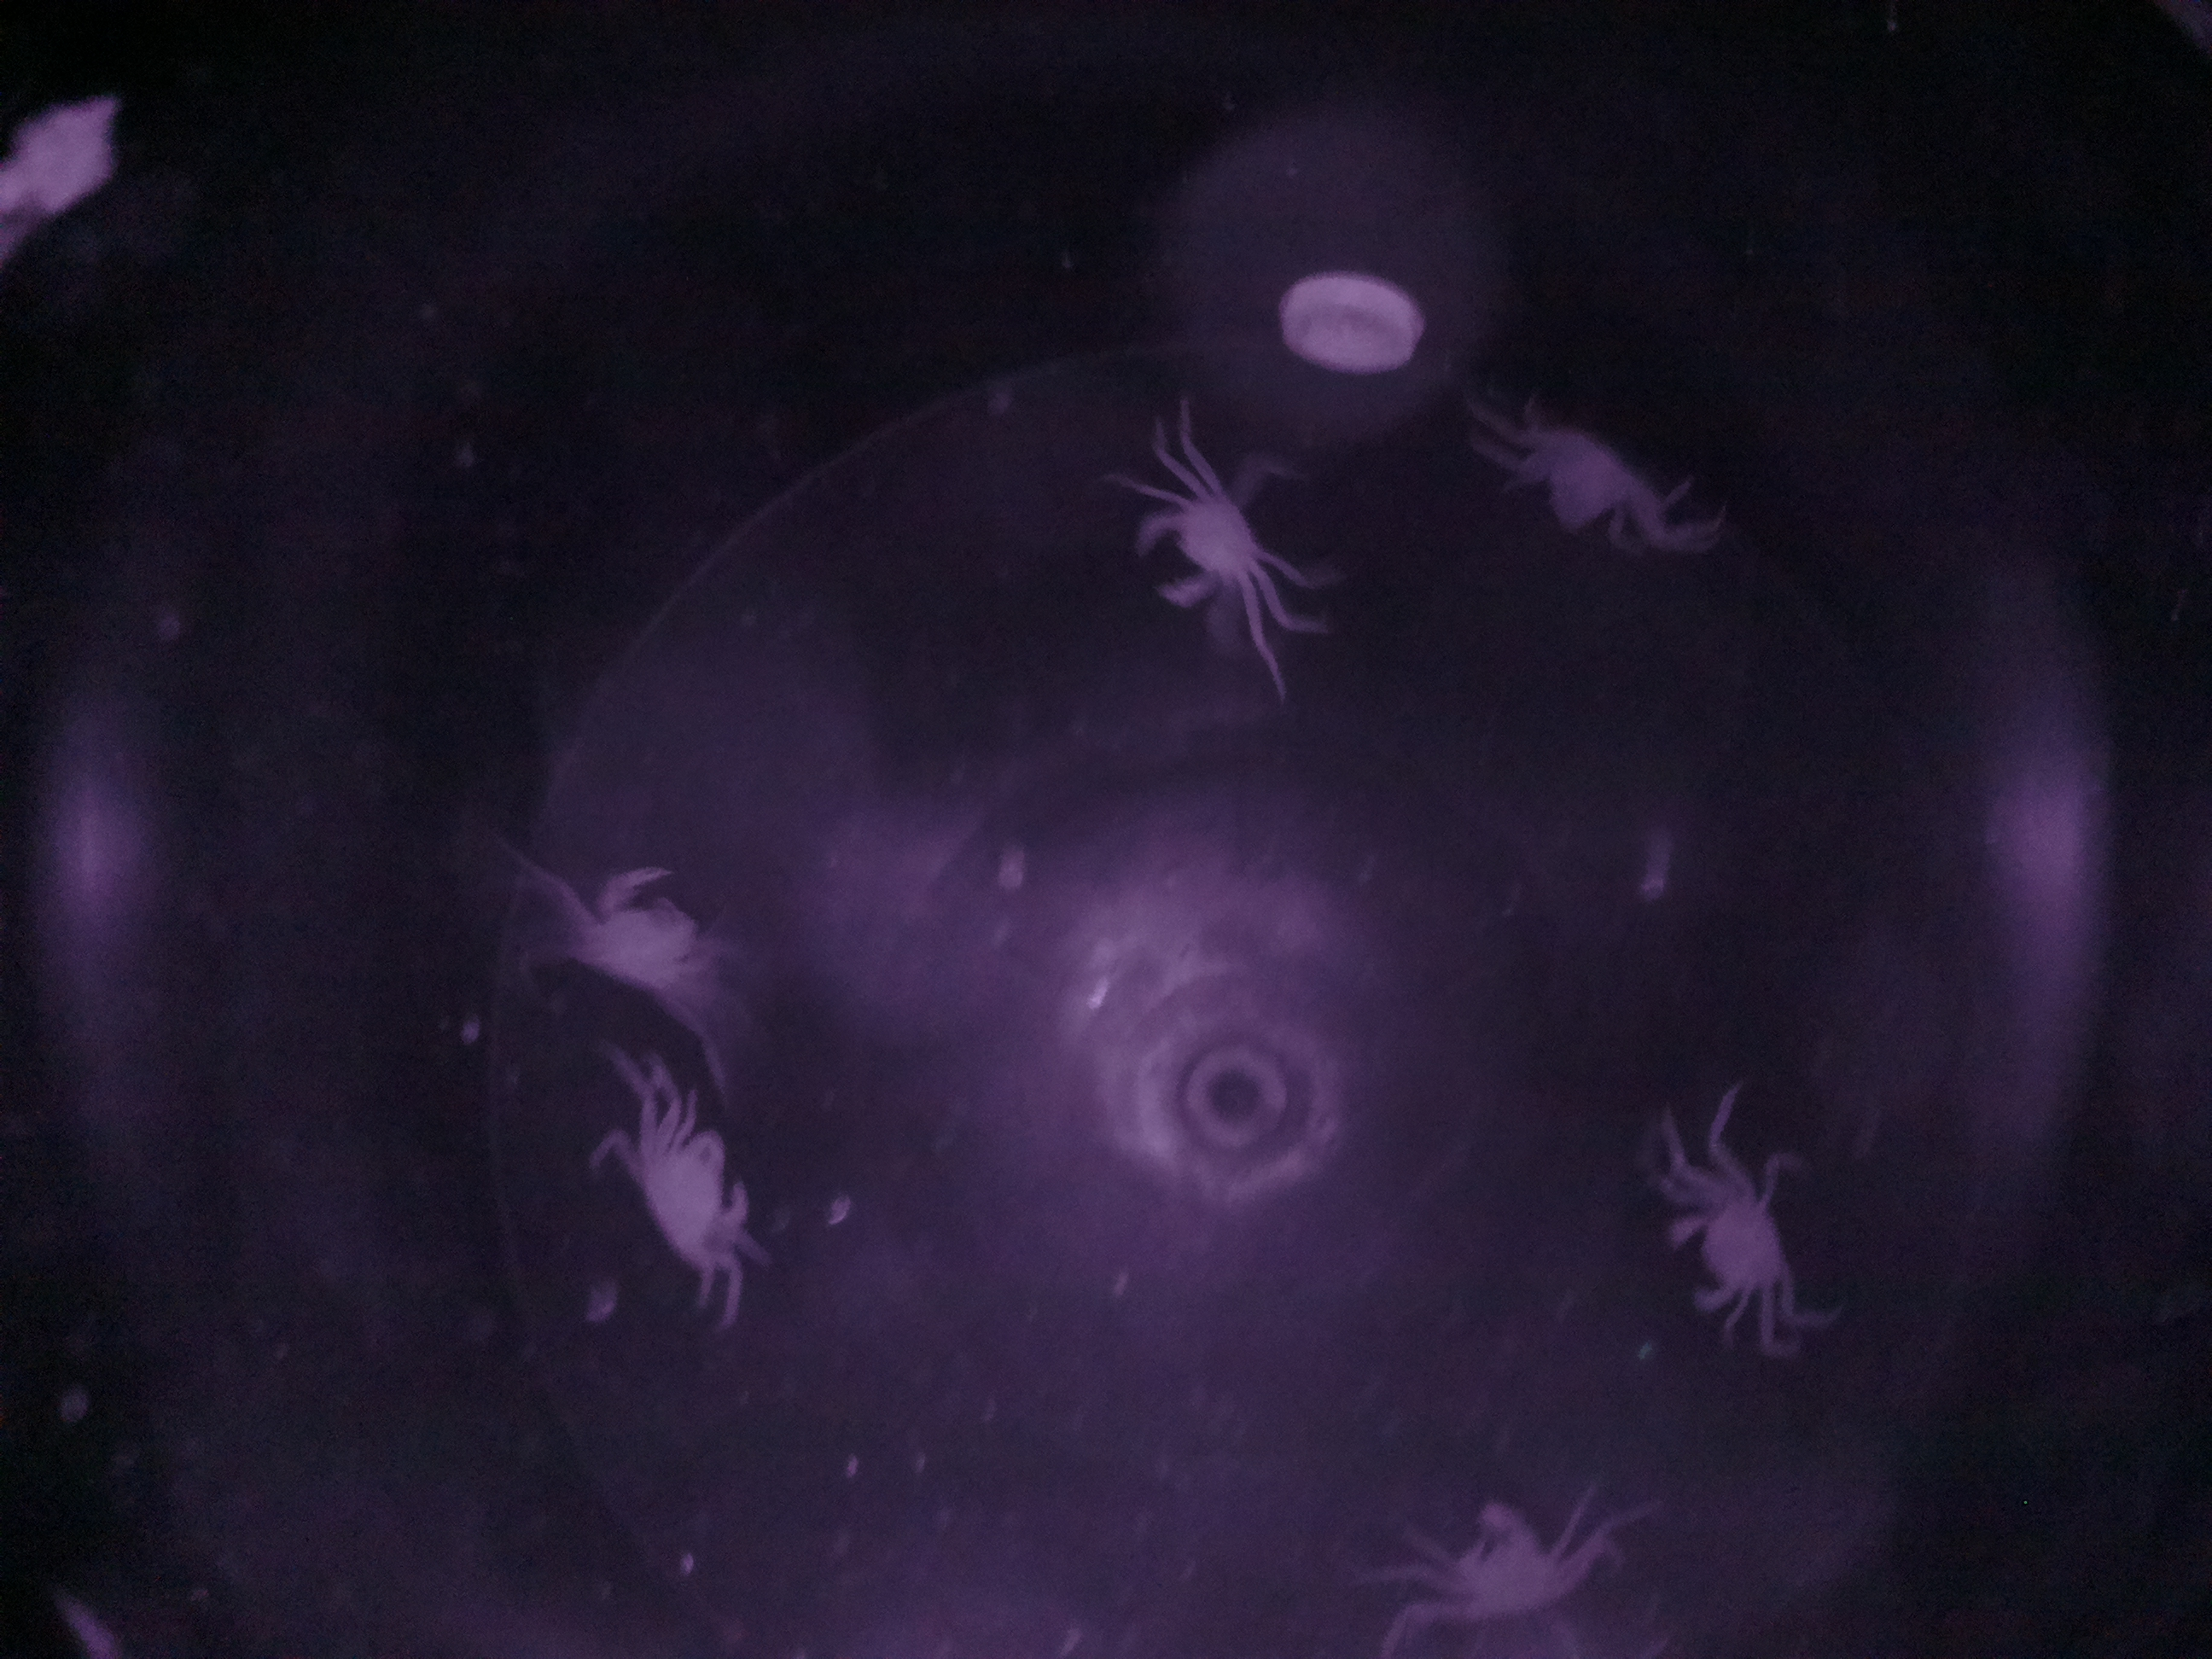Crab: (1125, 450, 1303, 631), (1648, 1169, 1836, 1340)
